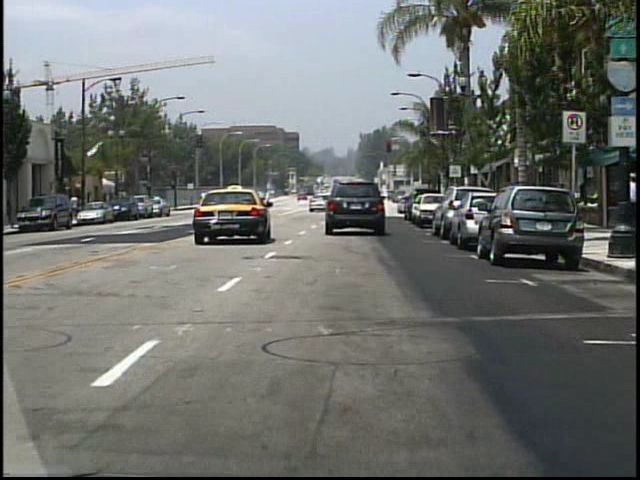person: (623, 170, 639, 249), (72, 193, 81, 220), (321, 192, 333, 212), (264, 190, 275, 211)
